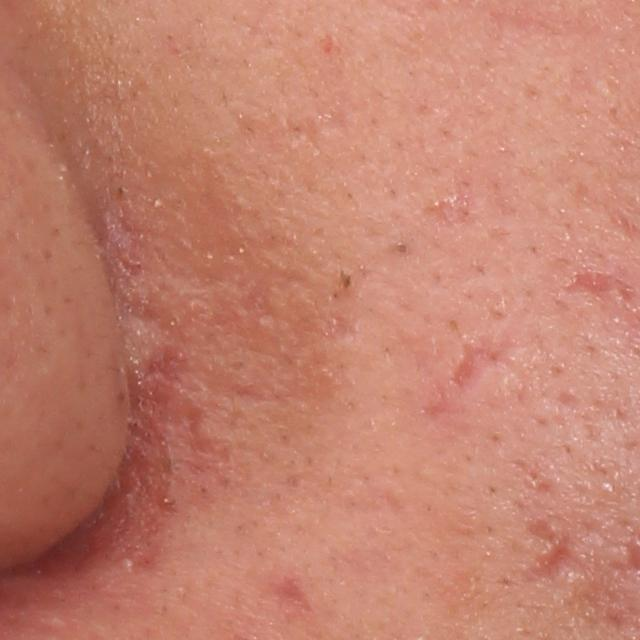atrophic_scar: (521, 520, 593, 585), (448, 330, 503, 392), (559, 268, 637, 306)
comedo: (389, 238, 412, 261)
